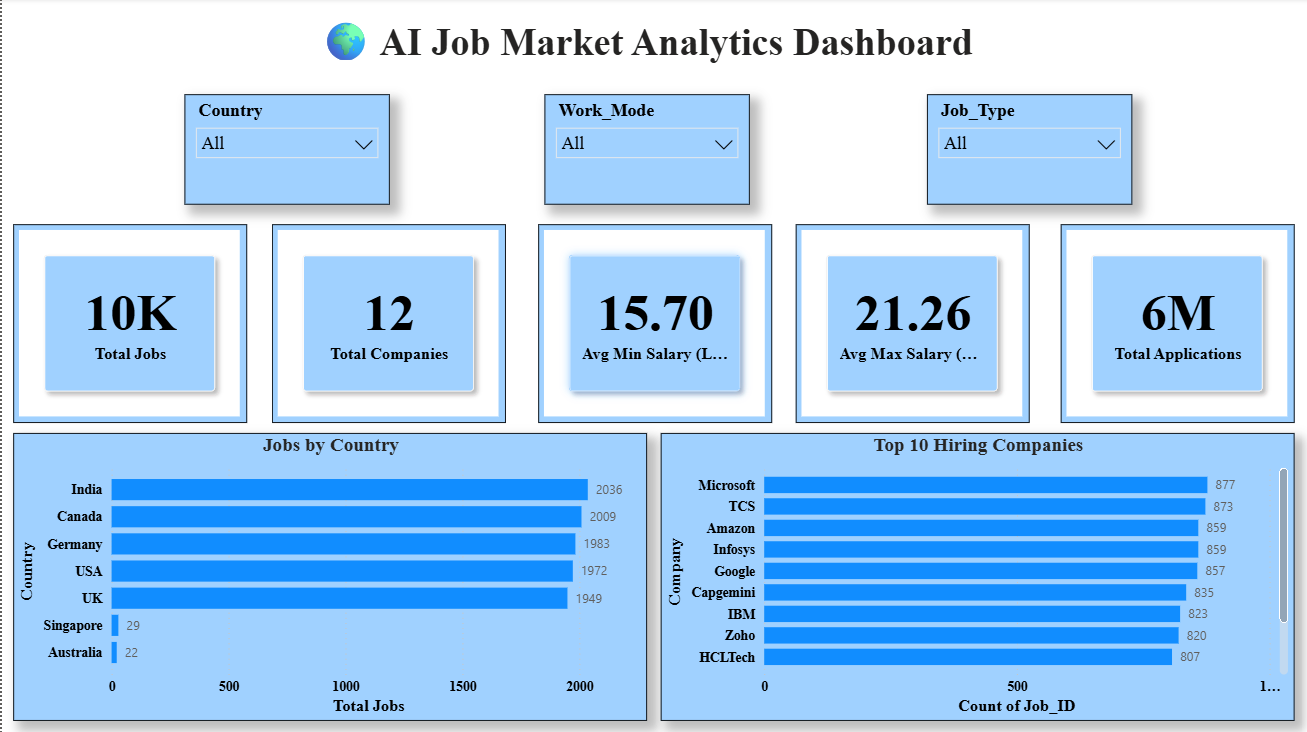

The page's visual inventory and layout, read from the dashboard file:
{"tool":"powerbi","page":{"name":"AI Job Market Analytics ","canvas":[1280,720],"ordinal":0},"visuals":[{"type":"cardVisual","fields":{"Data":["Jobs.Total Jobs"]},"box":[11,221.3,228.7,194.4],"z":0},{"type":"cardVisual","fields":{"Data":["Jobs.Total Companies"]},"box":[264.1,221.3,228.7,194.4],"z":1000},{"type":"cardVisual","fields":{"Data":["Avg(Jobs.Salary_Min_LPA)"]},"box":[524.6,221.3,228.7,194.4],"z":2000},{"type":"cardVisual","fields":{"Data":["Avg(Jobs.Salary_Max_LPA)"]},"box":[776.5,221.3,228.7,194.4],"z":3000},{"type":"cardVisual","fields":{"Data":["Jobs.Total Applications"]},"box":[1035.7,221.3,228.7,194.4],"z":4000},{"type":"clusteredBarChart","title":"Jobs by Country","fields":{"Category":["Jobs.Country"],"Y":["Jobs.Total Jobs"]},"box":[11,425.5,620,281.3],"z":5000},{"type":"textbox","box":[228.7,11,803.4,70.9],"z":6000},{"type":"clusteredBarChart","title":"Top 10 Hiring Companies","fields":{"Y":["CountNonNull(Jobs.Job_ID)"],"Category":["Jobs.Company"]},"box":[644.4,425.5,620,281.3],"z":7000},{"type":"slicer","fields":{"Values":["Jobs.Country"]},"box":[178.5,94.2,200.5,107.6],"z":8000},{"type":"slicer","fields":{"Values":["Jobs.Job_Type"]},"box":[904.9,94.2,200.5,107.6],"z":9000},{"type":"slicer","fields":{"Values":["Jobs.Work_Mode"]},"box":[530.7,94.2,200.5,107.6],"z":10000}]}

Visuals, with their boxes in screenshot pixels (x1, y1, x2, y2), scaled from the page's 1280x720 canvas onto the 1307x732 screenshot:
cardVisual - Jobs.Total Jobs: <bbox>11, 225, 245, 423</bbox>
cardVisual - Jobs.Total Companies: <bbox>270, 225, 503, 423</bbox>
cardVisual - Avg(Jobs.Salary_Min_LPA): <bbox>536, 225, 769, 423</bbox>
cardVisual - Avg(Jobs.Salary_Max_LPA): <bbox>793, 225, 1026, 423</bbox>
cardVisual - Jobs.Total Applications: <bbox>1058, 225, 1291, 423</bbox>
"Jobs by Country" clusteredBarChart: <bbox>11, 433, 644, 719</bbox>
textbox: <bbox>234, 11, 1054, 83</bbox>
"Top 10 Hiring Companies" clusteredBarChart: <bbox>658, 433, 1291, 719</bbox>
slicer - Jobs.Country: <bbox>182, 96, 387, 205</bbox>
slicer - Jobs.Job_Type: <bbox>924, 96, 1129, 205</bbox>
slicer - Jobs.Work_Mode: <bbox>542, 96, 747, 205</bbox>
